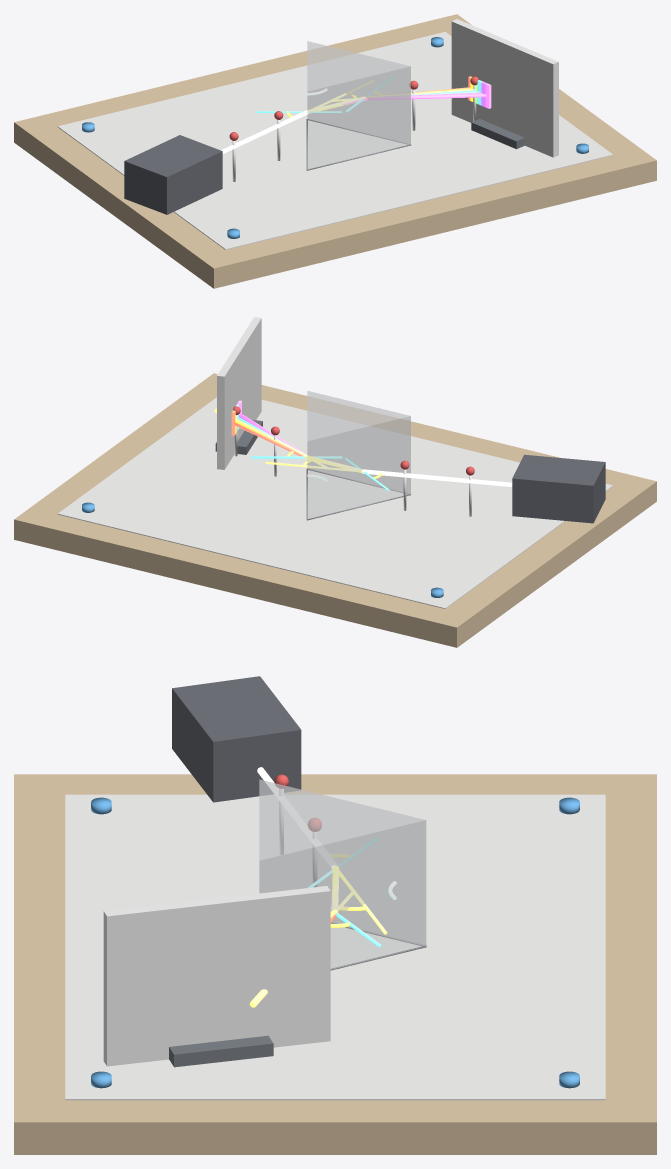
Rendered from glass-prism-refraction.glb.
3 renders of one model, top to bottom at view 1: azimuth 30°, elevation 25°; view 2: azimuth 150°, elevation 25°; view 3: azimuth 270°, elevation 25°, orthographic. The views are drawn at different scales.
Parts seen in each view (by area): view 1: Full_Paper_Sheet, Full_Drawing_Board, Full_Glass_Prism, Sec_Glass_Prism, Full_Observation_Screen, Full_Ray_Box, Full_Screen_Stand, Full_Ray_Incident, Full_Ray_Em_Violet; view 2: Full_Paper_Sheet, Full_Drawing_Board, Full_Glass_Prism, Sec_Glass_Prism, Full_Ray_Box, Full_Observation_Screen, Full_Ray_Incident; view 3: Full_Paper_Sheet, Full_Drawing_Board, Full_Observation_Screen, Full_Glass_Prism, Sec_Glass_Prism, Full_Ray_Box, Full_Screen_Stand, Full_Ray_Incident.
Part boxes in pixels (left/top/right/bottom): Full_Paper_Sheet: left=57, top=31, right=613, bottom=249; Full_Drawing_Board: left=14, top=14, right=656, bottom=288; Full_Glass_Prism: left=307, top=41, right=410, bottom=168; Sec_Glass_Prism: left=307, top=41, right=410, bottom=168; Full_Observation_Screen: left=451, top=19, right=558, bottom=157; Full_Ray_Box: left=124, top=135, right=222, bottom=214; Full_Screen_Stand: left=471, top=119, right=524, bottom=149; Full_Ray_Incident: left=221, top=110, right=308, bottom=153; Full_Ray_Em_Violet: left=365, top=94, right=486, bottom=100; Full_Paper_Sheet: left=57, top=397, right=613, bottom=608; Full_Drawing_Board: left=14, top=373, right=656, bottom=647; Full_Glass_Prism: left=307, top=391, right=410, bottom=518; Sec_Glass_Prism: left=307, top=391, right=410, bottom=518; Full_Ray_Box: left=512, top=454, right=605, bottom=523; Full_Observation_Screen: left=217, top=317, right=261, bottom=469; Full_Ray_Incident: left=363, top=469, right=512, bottom=486; Full_Paper_Sheet: left=65, top=794, right=605, bottom=1100; Full_Drawing_Board: left=14, top=774, right=656, bottom=1154; Full_Observation_Screen: left=103, top=886, right=330, bottom=1066; Full_Glass_Prism: left=259, top=779, right=425, bottom=968; Sec_Glass_Prism: left=259, top=780, right=425, bottom=967; Full_Ray_Box: left=172, top=676, right=301, bottom=802; Full_Screen_Stand: left=169, top=1035, right=273, bottom=1067; Full_Ray_Incident: left=257, top=767, right=338, bottom=868.
Bounding box in the file's own units: 0.3294 × 0.079 × 0.25.
